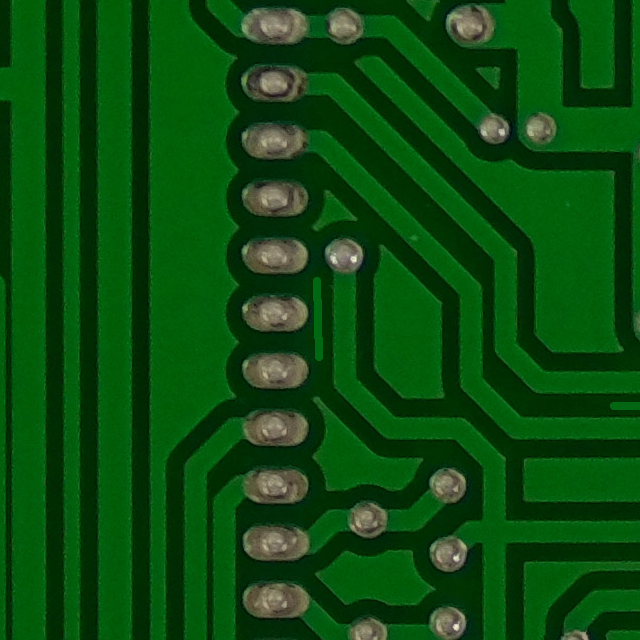spurious_copper: (301, 262, 339, 378)
